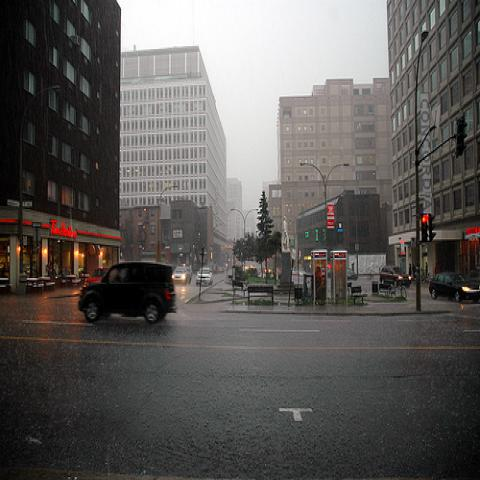car: (77, 265, 177, 325), (428, 270, 479, 302), (379, 264, 411, 288), (82, 266, 110, 289), (195, 267, 214, 286), (172, 266, 191, 284), (346, 267, 358, 280)
